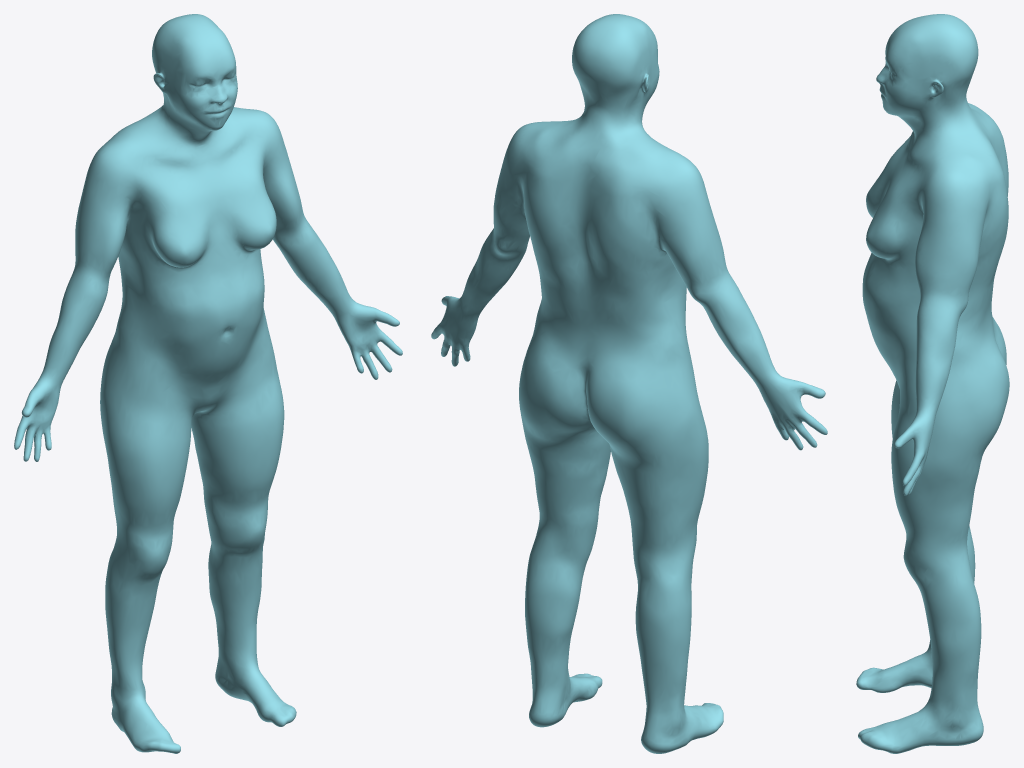
File: anatomy.glb
3 views of the same model, side by side, from view 1: azimuth 30°, elevation 25°; view 2: azimuth 150°, elevation 25°; view 3: azimuth 270°, elevation 25° (orthographic).
Parts seen in each view (by area): view 1: HRA_skin; view 2: HRA_skin; view 3: HRA_skin.
Part boxes in pixels (box(x1,y1,x2,y2)): HRA_skin: box(14, 14, 402, 753); HRA_skin: box(431, 14, 827, 753); HRA_skin: box(856, 14, 1009, 753).
Bounding box in the file's own units: 0.9673 × 1.67 × 0.3292.
